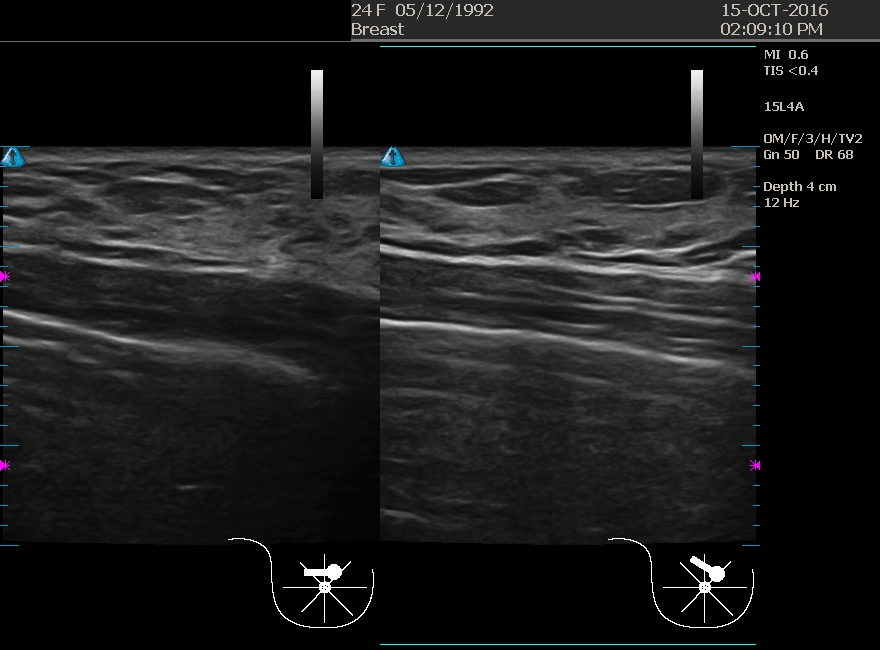BIRADS_3: (52, 151, 252, 351), (384, 170, 584, 370)
